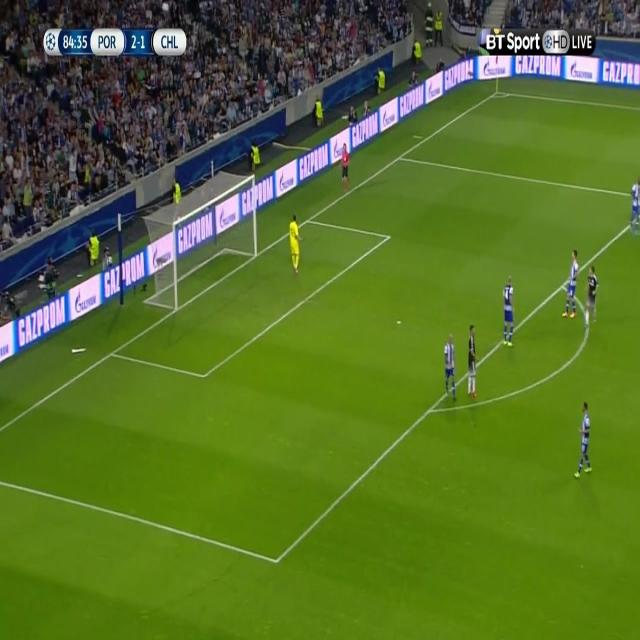Goalkeeper: (288, 213, 304, 277)
Player: (570, 400, 595, 482), (559, 248, 582, 323), (466, 323, 482, 403), (500, 276, 517, 351), (584, 262, 600, 330), (443, 333, 458, 404), (627, 177, 640, 237)
Referee: (339, 140, 352, 192)
